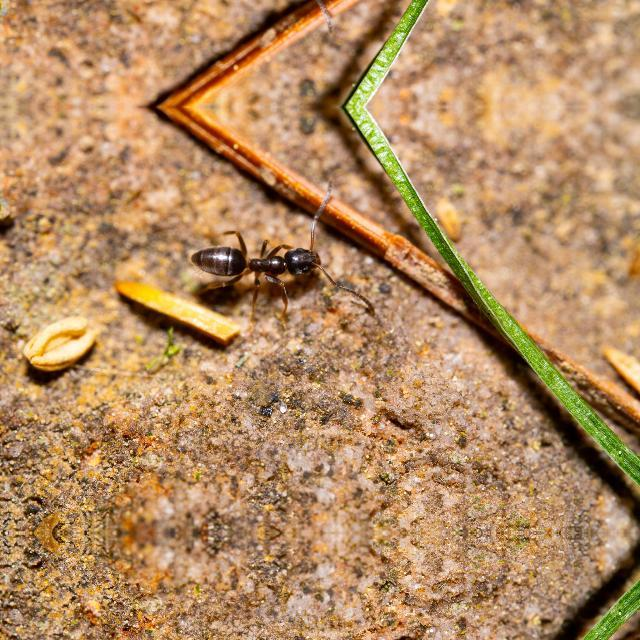Tapinoma: (180, 222, 358, 306)
